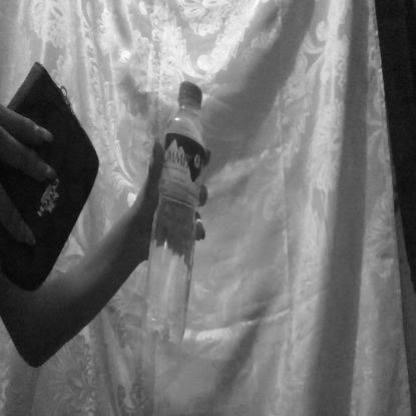Plastic Bottle: (131, 53, 217, 368)
